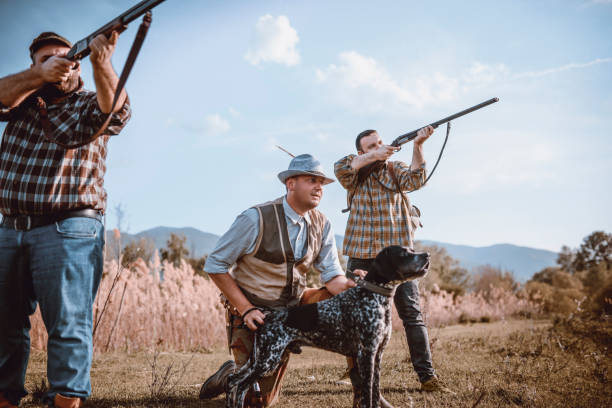gun: (0, 0, 168, 114), (356, 96, 499, 188)
